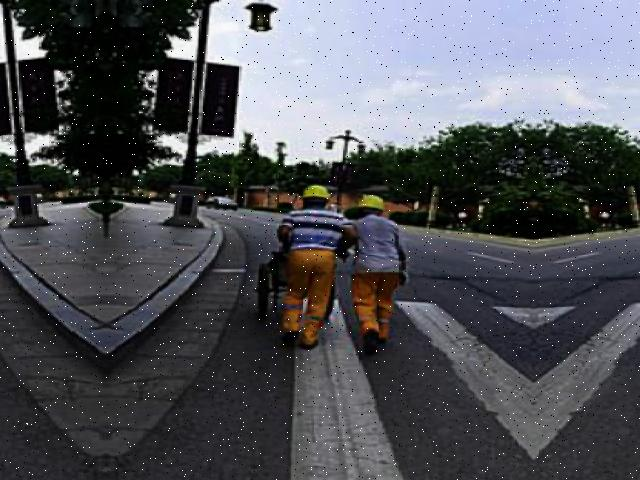Helmet: (353, 190, 394, 212), (301, 182, 337, 204)
